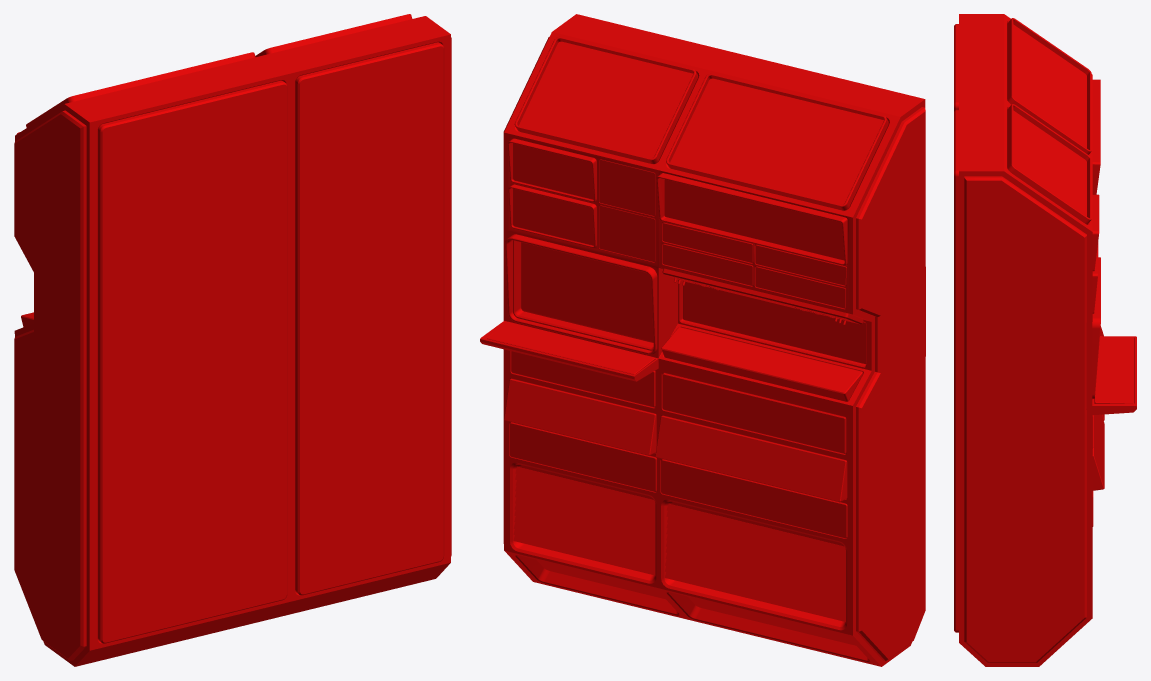
The model's file is Terminal_9.fbx.
The picture shows the model from 3 angles, left to right: view 1: azimuth 30°, elevation 25°; view 2: azimuth 150°, elevation 25°; view 3: azimuth 270°, elevation 25°; orthographic projection. The views are drawn at different scales.
Visible parts, largest first — view 1: L12:polySurface812; view 2: L12:polySurface812; view 3: L12:polySurface812.
Boxes of the visible parts, <box> form: L12:polySurface812: <box>14,14,451,666</box>; L12:polySurface812: <box>480,14,925,666</box>; L12:polySurface812: <box>954,14,1136,666</box>.
Bounding box in the file's own units: 194 × 278 × 92.77.
